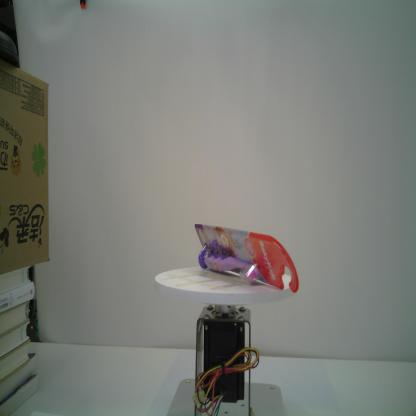Personal Hygiene: (194, 223, 300, 294)
